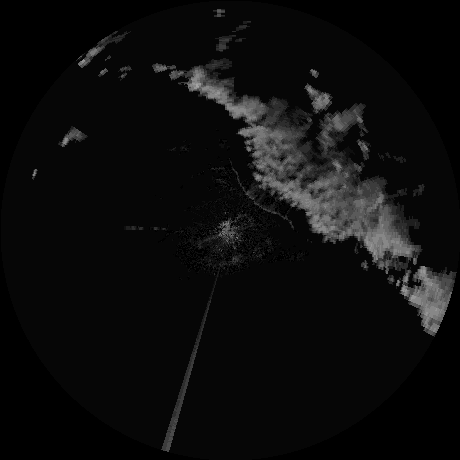frontgust: (234, 169, 294, 228)
